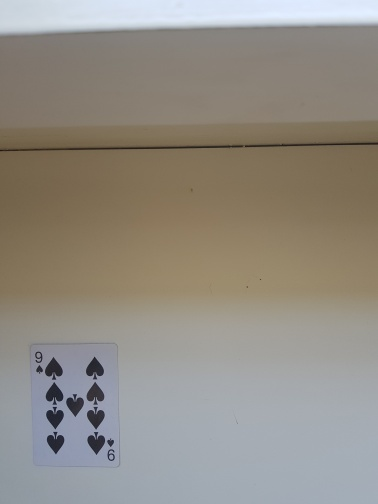nine: (28, 343, 122, 468)
